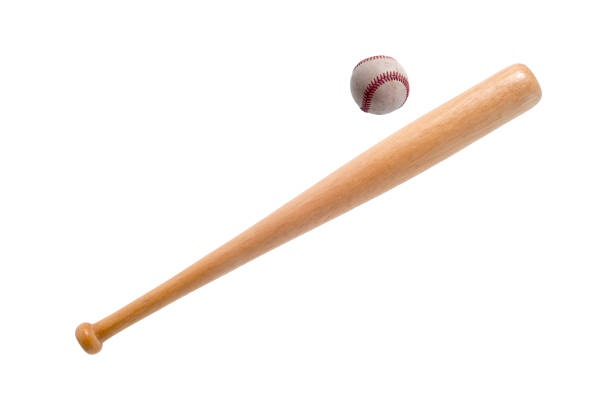bita: (81, 66, 545, 352)
